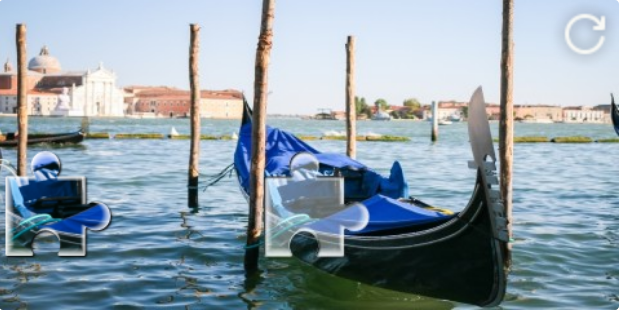target: (265, 152, 369, 257)
